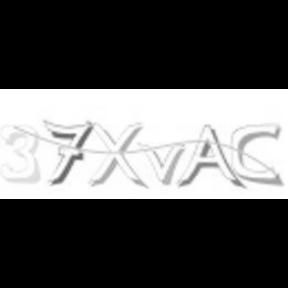3: (1, 125, 42, 185)
7: (42, 117, 94, 187)
A: (176, 124, 248, 190), (231, 123, 284, 187)
X: (89, 121, 148, 189)
v: (136, 142, 184, 186)
